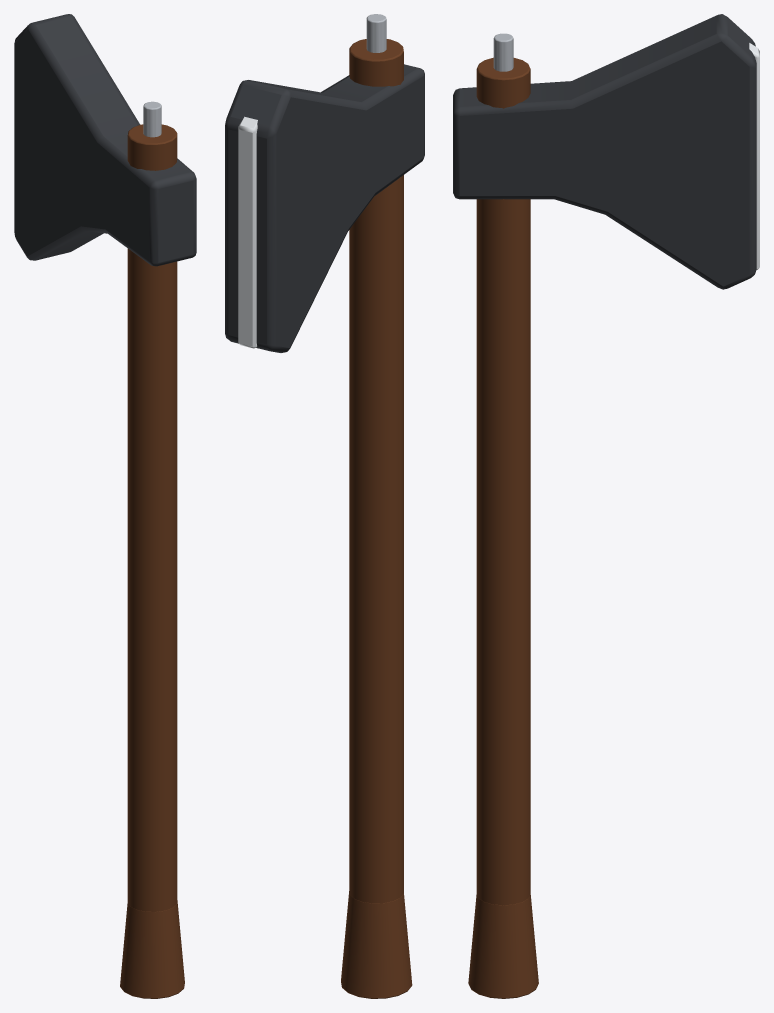
File: axe.glb
3 views of the same model, side by side, from view 1: azimuth 30°, elevation 25°; view 2: azimuth 150°, elevation 25°; view 3: azimuth 270°, elevation 25° (orthographic). The views are drawn at different scales.
Parts seen in each view (by area): view 1: haft, head, swell, eye_wedge; view 2: haft, head, swell, edge, eye_wedge; view 3: head, haft, swell, edge, eye_wedge.
Part boxes in pixels (x1,y1,x2,y2): haft: (127, 124, 177, 911); head: (14, 14, 196, 266); swell: (120, 900, 184, 998); eye_wedge: (143, 101, 161, 137); haft: (349, 39, 403, 903); head: (225, 64, 424, 352); swell: (341, 891, 412, 998); edge: (238, 116, 257, 348); eye_wedge: (366, 14, 386, 52); head: (453, 14, 756, 289); haft: (476, 57, 530, 905); swell: (468, 894, 538, 998); edge: (749, 43, 759, 270); eye_wedge: (493, 33, 513, 71).
Bounding box in the file's own units: 0.0419 × 0.6287 × 0.182.
